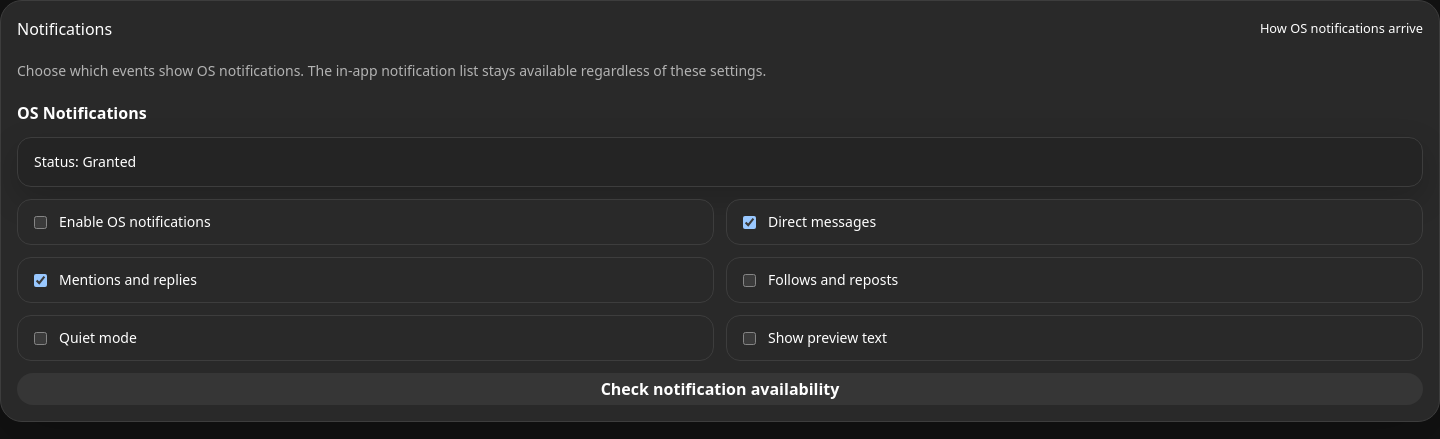
failed explicit check is contained and does not enable notifications
Expected: the text "Status: Granted" is shown, [17,137,1423,187]
Click the button "Check notification availability" at [720, 389], box [17,373,1423,405]
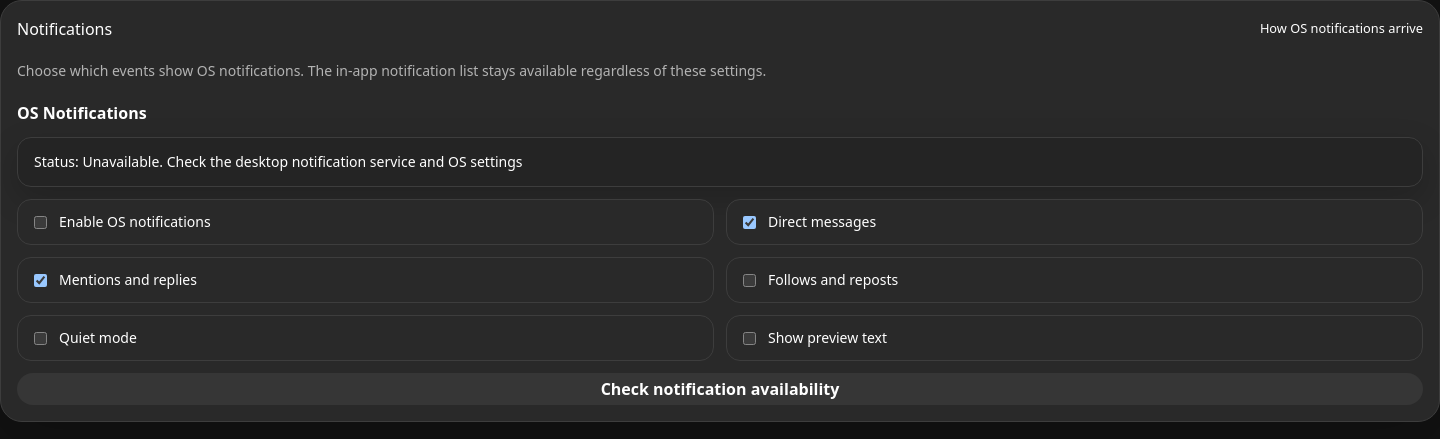
Now the text "Unavailable" is shown, box [34,152,522,171]
